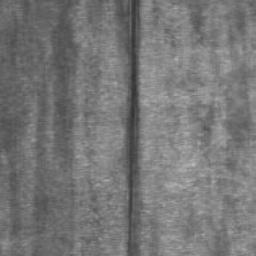Scratches: (126, 0, 139, 256)
